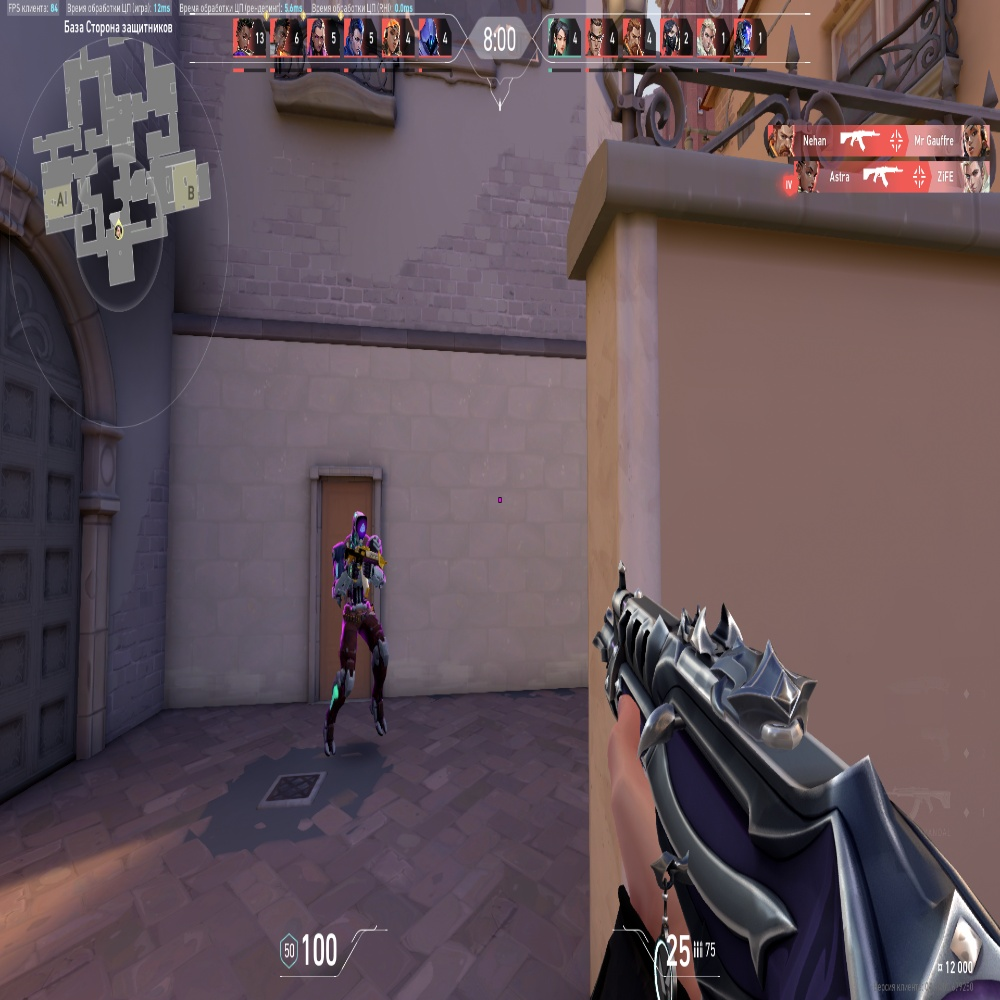body: (339, 544, 375, 614)
head: (352, 513, 366, 539)
